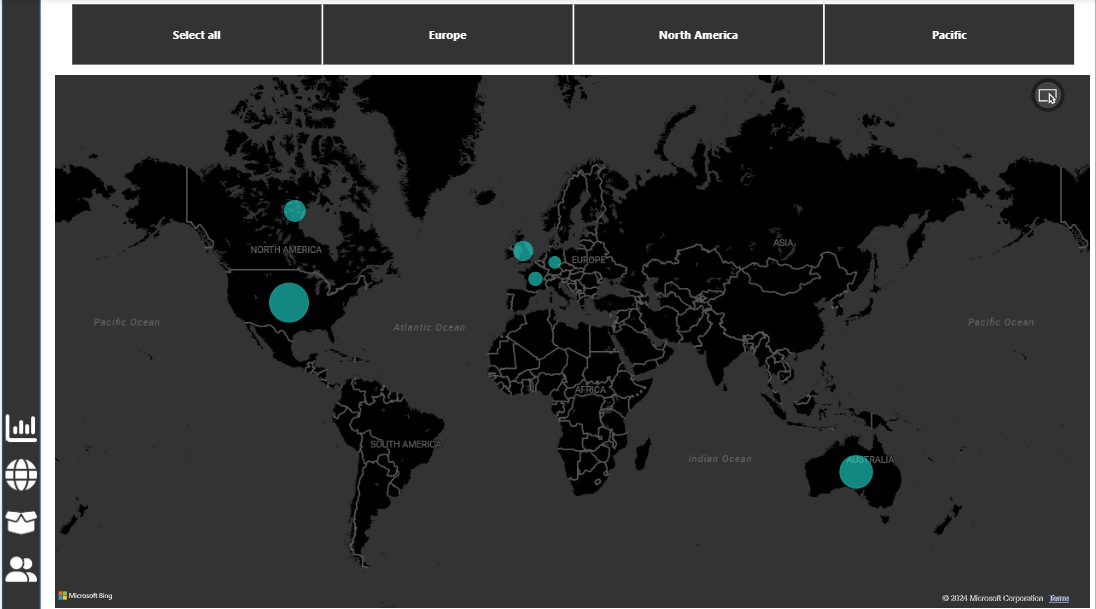

The dashboard page shown, as its layout file describes it:
{"tool":"powerbi","page":{"name":"Map","canvas":[1280,720],"ordinal":1},"visuals":[{"type":"shape","box":[0,0,45,720],"z":0},{"type":"actionButton","box":[0,481.7,90,45],"z":0,"group":"g1"},{"type":"actionButton","box":[0,536.7,90,45],"z":1000,"group":"g1"},{"type":"map","fields":{"Category":["Territory Lookup.Country"],"Size":["Measure Table.Total Orders"]},"box":[56.7,85,1223.3,635],"z":1000},{"type":"slicer","fields":{"Values":["Territory Lookup.Continent"]},"box":[56.7,0,1223.3,85],"z":2000},{"type":"actionButton","box":[0,591.7,90,45],"z":2000,"group":"g1"},{"type":"actionButton","box":[0,646.7,90,45],"z":3000,"group":"g1"},{"type":"group","id":"g1","title":"Navigation Button","box":[0,481.7,90,210],"z":3000}]}

Visuals, with their boxes on the page's 1280x720 design canvas (x1, y1, x2, y2). These are canvas units, not pixel positions in the 1096x609 screenshot, which may show the page scaled, cropped or inside an application window:
shape: x1=0, y1=0, x2=45, y2=720
actionButton: x1=0, y1=482, x2=90, y2=527
actionButton: x1=0, y1=537, x2=90, y2=582
map - Territory Lookup.Country x Measure Table.Total Orders: x1=57, y1=85, x2=1280, y2=720
slicer - Territory Lookup.Continent: x1=57, y1=0, x2=1280, y2=85
actionButton: x1=0, y1=592, x2=90, y2=637
actionButton: x1=0, y1=647, x2=90, y2=692
"Navigation Button" group: x1=0, y1=482, x2=90, y2=692
